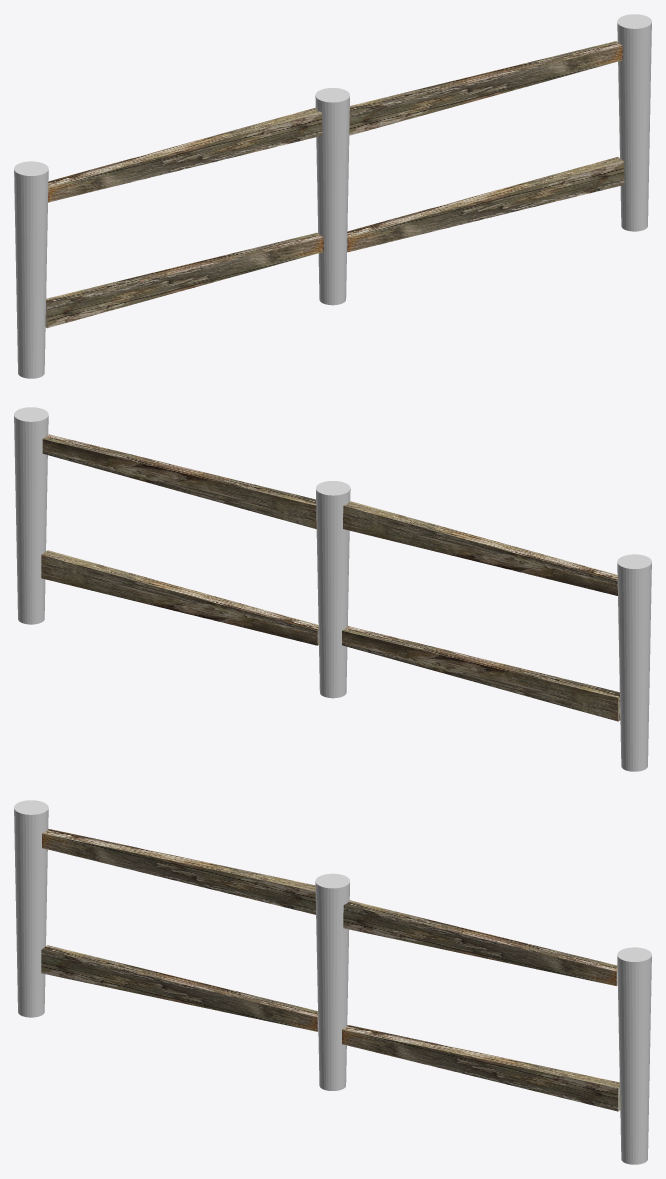
File: picketfence_0.dae
The picture shows the model from 3 angles, top to bottom: view 1: azimuth 30°, elevation 25°; view 2: azimuth 150°, elevation 25°; view 3: azimuth 330°, elevation 25°; orthographic projection.
Visible parts, largest first — view 1: Cube_003, Cube_001, Cube, Cube_002, Cylinder_001, Cylinder_002, Cylinder; view 2: Cube_003, Cube_001, Cube, Cube_002, Cylinder_001, Cylinder_002, Cylinder; view 3: Cube_001, Cube_003, Cube_002, Cube, Cylinder_002, Cylinder_001, Cylinder.
Part boxes in pixels (x1,y1,x2,y2): Cube_003: (347, 157, 624, 252); Cube_001: (45, 232, 323, 328); Cube: (48, 107, 322, 202); Cube_002: (349, 41, 622, 135); Cylinder_001: (14, 161, 48, 378); Cylinder_002: (617, 14, 651, 231); Cylinder: (315, 88, 349, 305); Cube_003: (41, 550, 318, 645); Cube_001: (342, 626, 620, 721); Cube: (343, 501, 617, 595); Cube_002: (42, 434, 316, 529); Cylinder_001: (617, 554, 651, 771); Cylinder_002: (14, 407, 48, 624); Cylinder: (316, 481, 350, 698); Cube_001: (41, 945, 318, 1031); Cube_003: (342, 1025, 620, 1111); Cube_002: (343, 900, 617, 986); Cube: (42, 829, 315, 914); Cylinder_002: (617, 947, 651, 1164); Cylinder_001: (14, 800, 48, 1017); Cylinder: (315, 873, 349, 1090).
Bounding box in the file's own units: 6.9 × 0.3282 × 2.13.
Materials: 1 (1 with a texture image).
